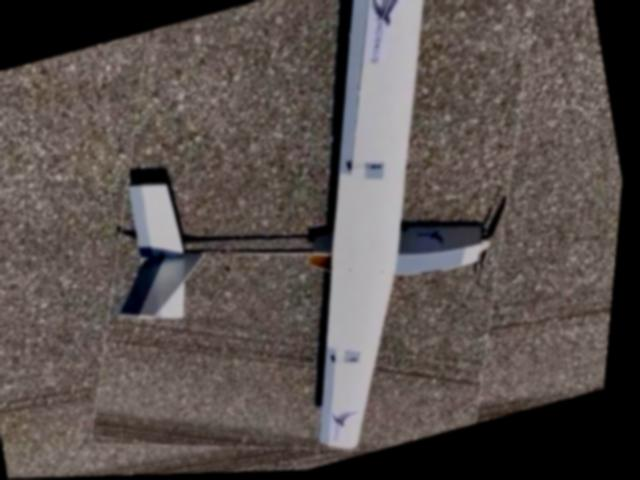insansiz-hava-araci: (29, 0, 607, 479)
